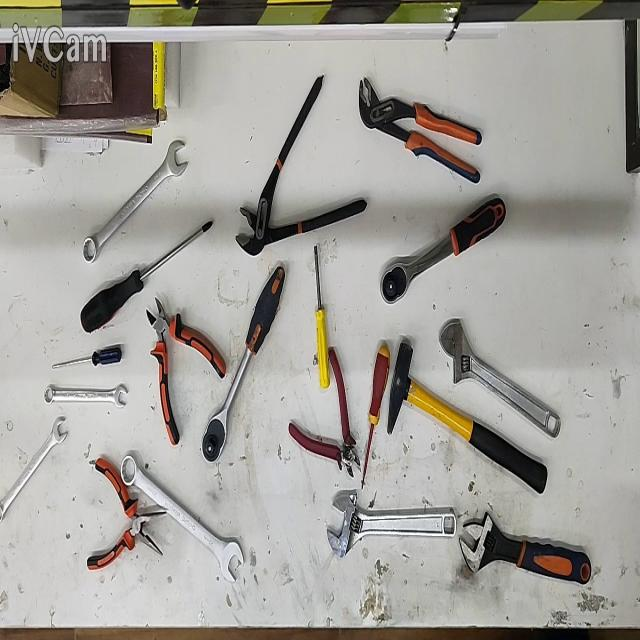Screwdriver: (80, 221, 212, 334), (361, 342, 390, 493), (314, 247, 330, 389), (52, 348, 121, 369)
